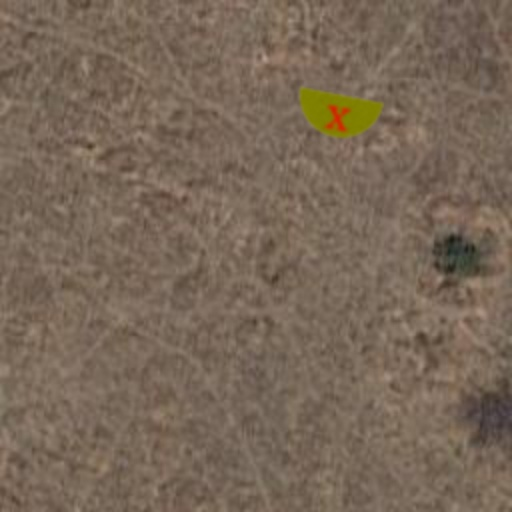semicircle: (288, 66, 388, 166)
